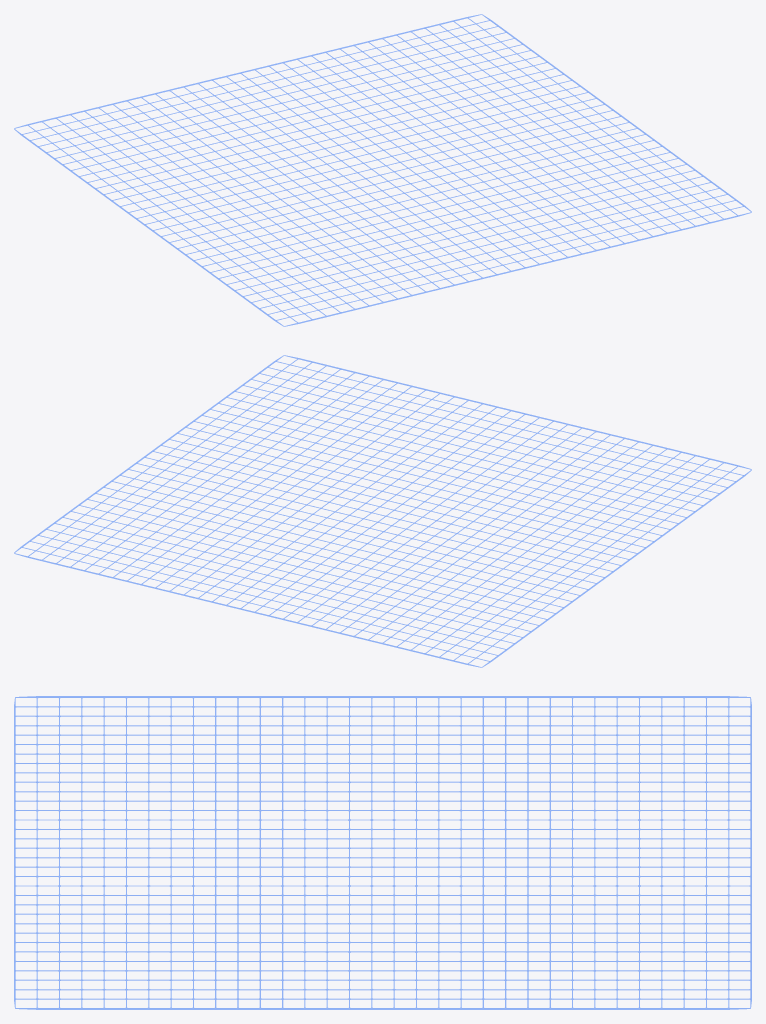
Rendered from Quantum_Grid.glb.
The picture shows the model from 3 angles, top to bottom: view 1: azimuth 30°, elevation 25°; view 2: azimuth 150°, elevation 25°; view 3: azimuth 270°, elevation 25°; orthographic projection. The views are drawn at different scales.
Parts seen in each view (by area): view 1: Quantum_Grid; view 2: Quantum_Grid; view 3: Quantum_Grid.
Part boxes in pixels (x1,y1,x2,y2): Quantum_Grid: (14, 14, 751, 326); Quantum_Grid: (14, 355, 751, 667); Quantum_Grid: (14, 696, 751, 1009).
Size of the model in its own units: 40.1 by 0.1131 by 40.1.
